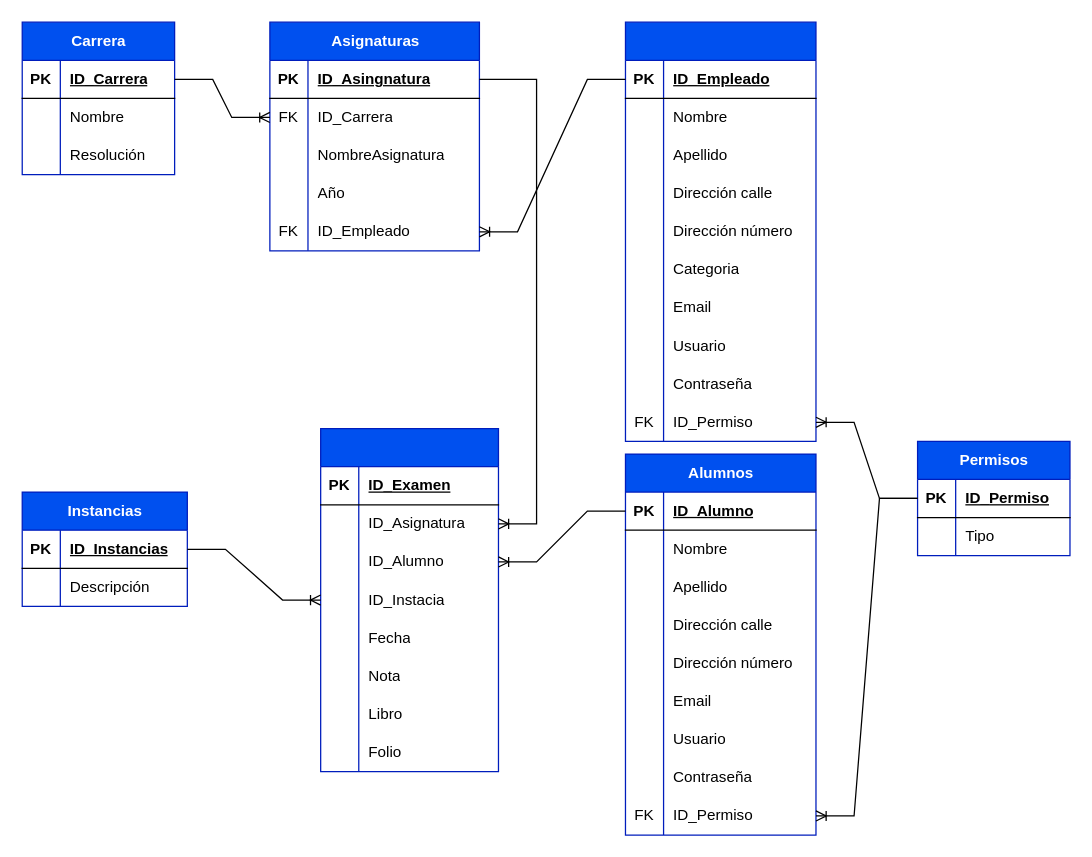
The diagram is 1092 pixels wide and 857 high, and some of its shapes have lost their labels. The box of each missing label's shape, as (x1, y1, x2, y2) in pixels:
Empleados: (624, 21, 816, 441)
Examenes: (319, 427, 498, 772)
